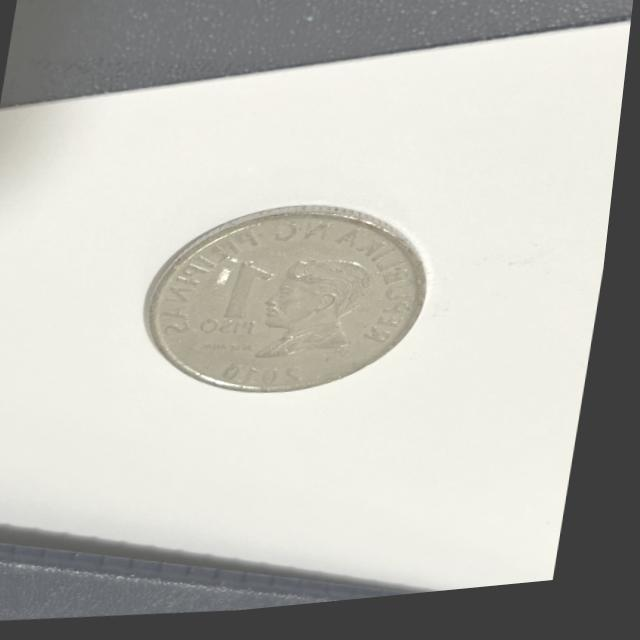1_Old_Front: (203, 262, 289, 346)
